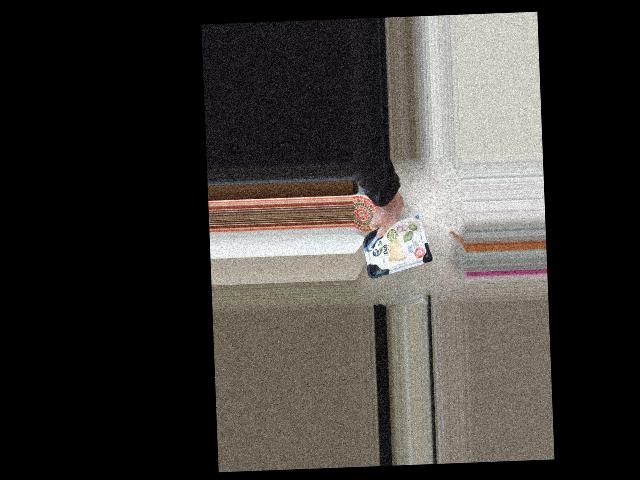cheese: (361, 214, 429, 279)
